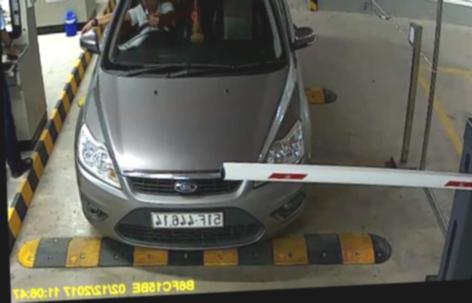License_Plate: (150, 205, 225, 234)
